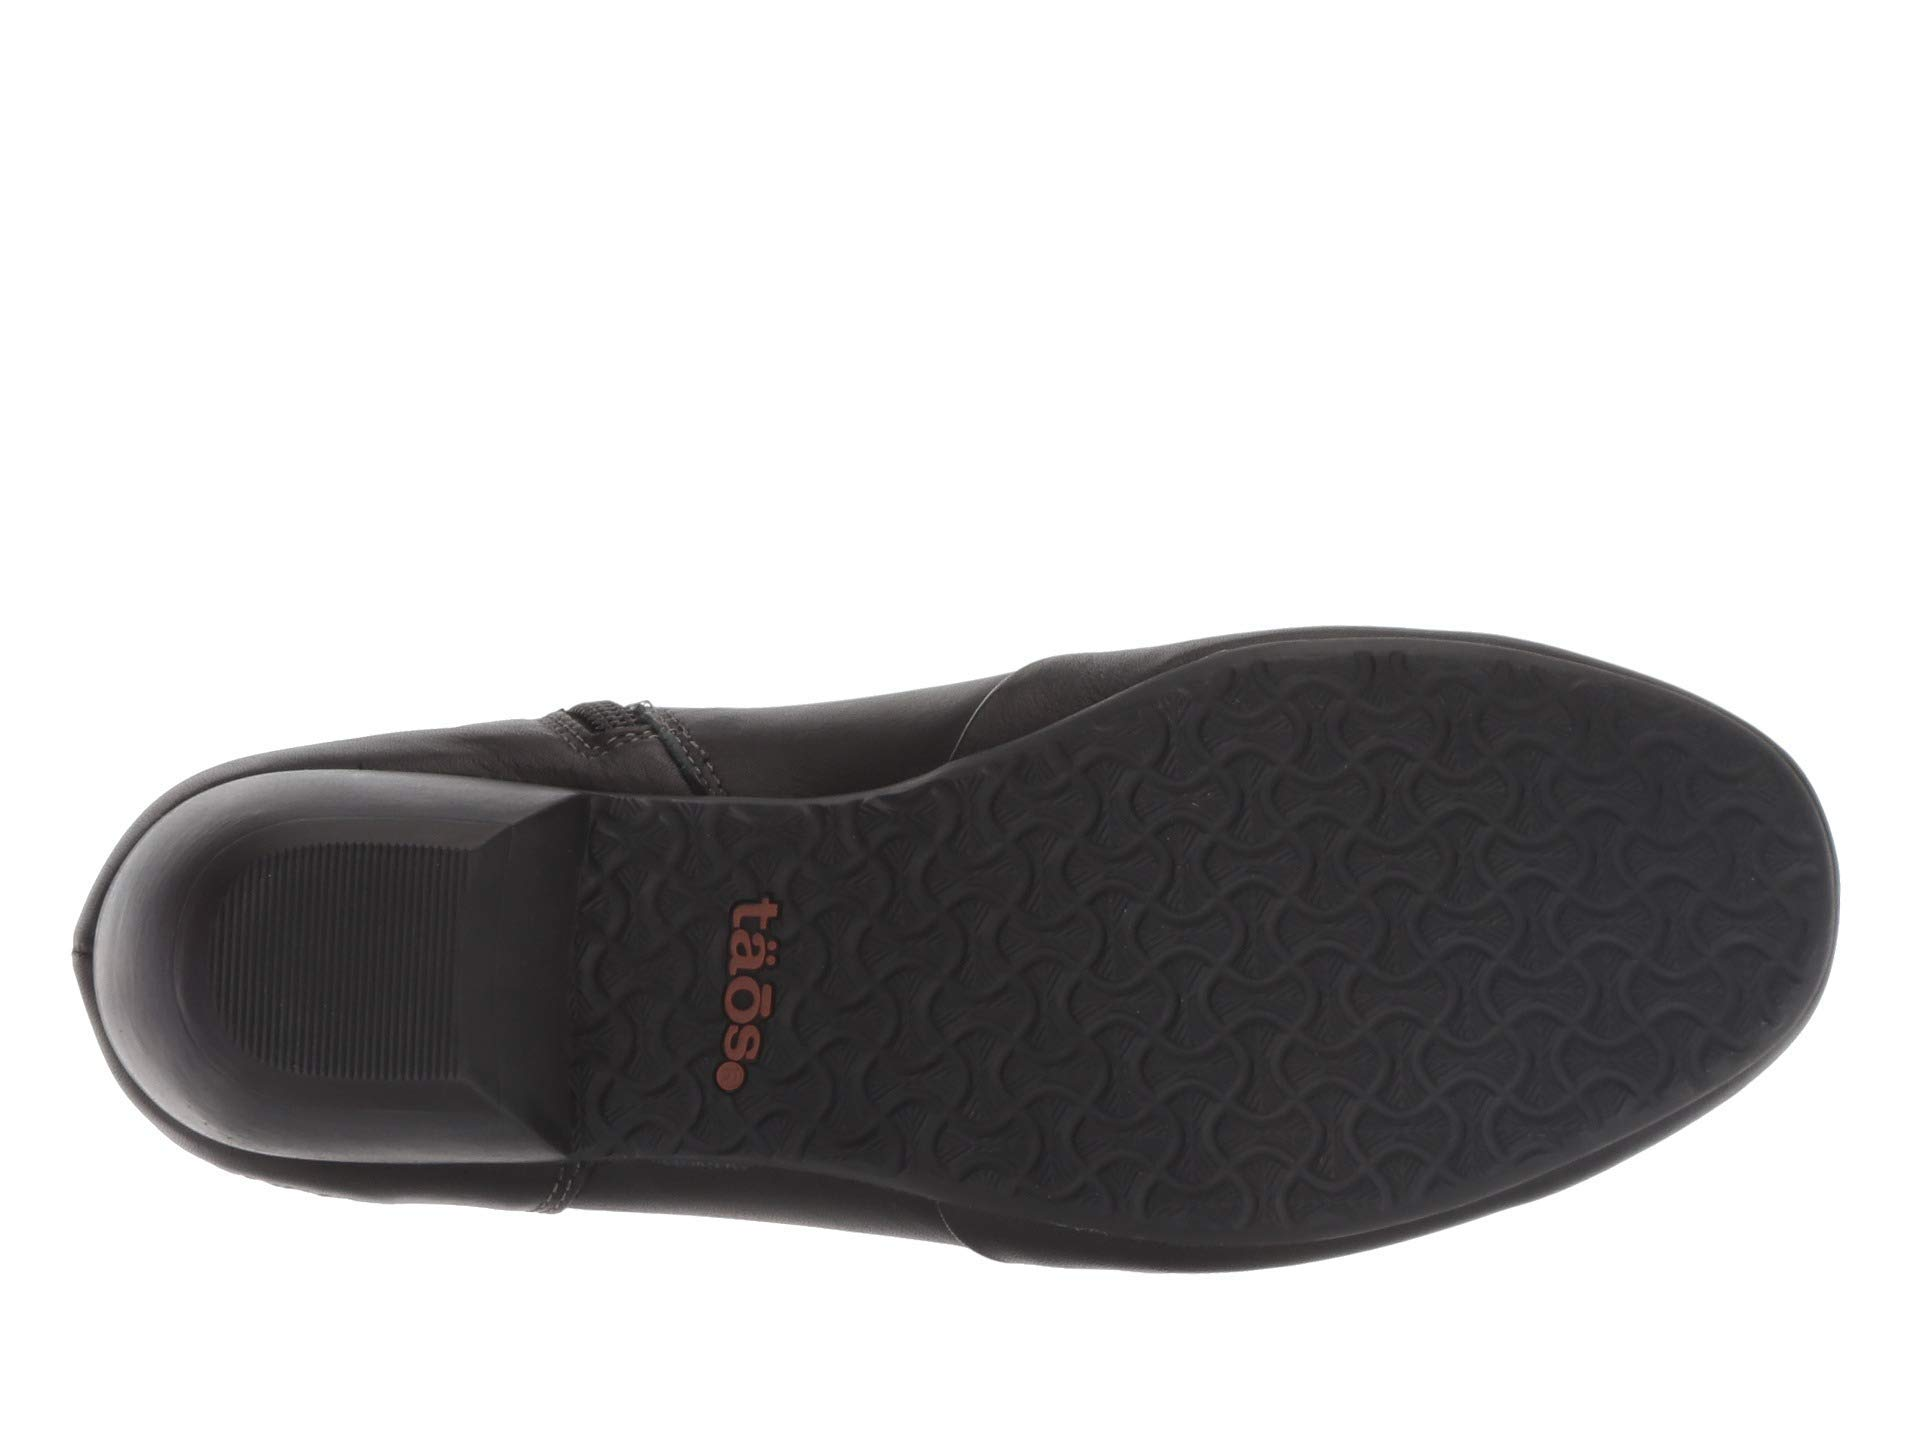bowtie: (1039, 764, 1457, 1231), (1473, 717, 1779, 1032)
line: (1039, 764, 1457, 1231), (1473, 717, 1779, 1032), (268, 867, 454, 1066)
